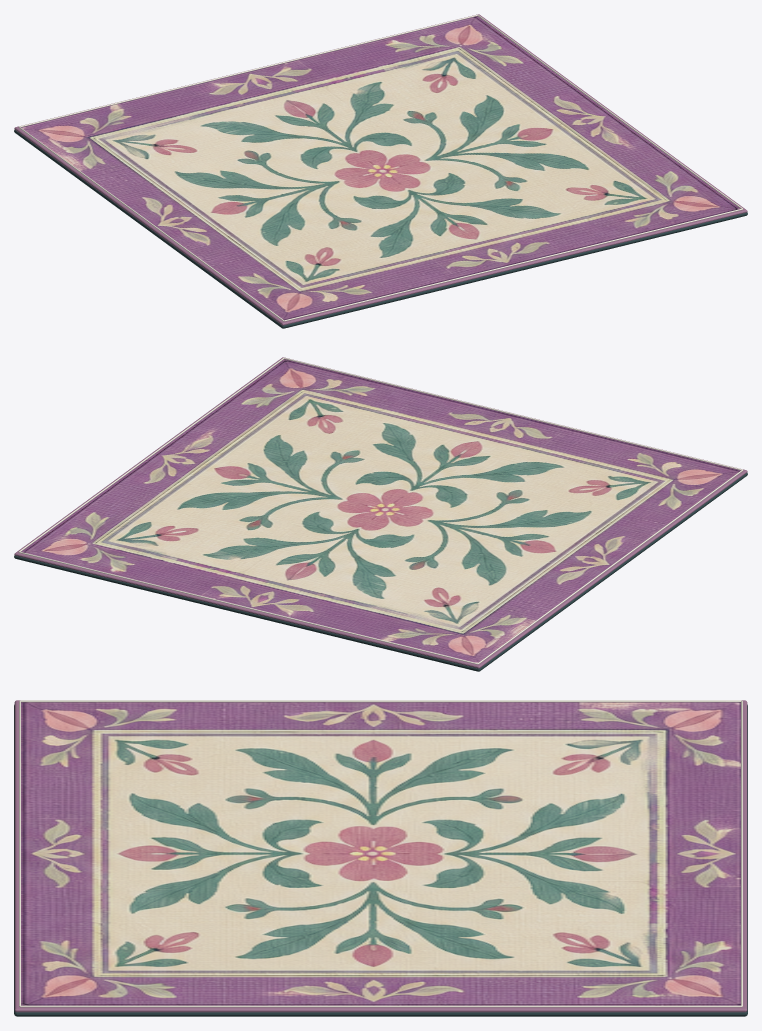
Rendered from hatch_rug_botanical.glb.
3 renders of one model, top to bottom at view 1: azimuth 30°, elevation 25°; view 2: azimuth 150°, elevation 25°; view 3: azimuth 270°, elevation 25°, orthographic. The views are drawn at different scales.
Visible parts, largest first — view 1: Flat_woven_botanical_motif, Bound_woven_body, Anti_slip_rubber, Double_stitched_edge.003, Double_stitched_edge.002, Double_stitched_edge, Double_stitched_edge.001; view 2: Flat_woven_botanical_motif, Bound_woven_body, Anti_slip_rubber, Double_stitched_edge.002, Double_stitched_edge.003, Double_stitched_edge, Double_stitched_edge.001; view 3: Flat_woven_botanical_motif, Bound_woven_body, Anti_slip_rubber, Double_stitched_edge.001, Double_stitched_edge, Double_stitched_edge.002, Double_stitched_edge.003.
Boxes of the visible parts, left/top/right/bottom form: Flat_woven_botanical_motif: left=21, top=16, right=740, bottom=320; Bound_woven_body: left=14, top=14, right=747, bottom=325; Anti_slip_rubber: left=14, top=129, right=747, bottom=328; Double_stitched_edge.003: left=284, top=208, right=742, bottom=321; Double_stitched_edge.002: left=19, top=14, right=477, bottom=127; Double_stitched_edge: left=18, top=126, right=283, bottom=321; Double_stitched_edge.001: left=477, top=15, right=742, bottom=208; Flat_woven_botanical_motif: left=21, top=359, right=740, bottom=663; Bound_woven_body: left=14, top=357, right=747, bottom=668; Anti_slip_rubber: left=14, top=472, right=747, bottom=671; Double_stitched_edge.002: left=19, top=551, right=477, bottom=664; Double_stitched_edge.003: left=284, top=357, right=742, bottom=470; Double_stitched_edge: left=478, top=469, right=743, bottom=664; Double_stitched_edge.001: left=19, top=358, right=284, bottom=551; Flat_woven_botanical_motif: left=21, top=702, right=740, bottom=1005; Bound_woven_body: left=14, top=700, right=747, bottom=1012; Anti_slip_rubber: left=14, top=704, right=747, bottom=1016; Double_stitched_edge.001: left=19, top=1005, right=742, bottom=1007; Double_stitched_edge: left=20, top=700, right=741, bottom=702; Double_stitched_edge.002: left=741, top=701, right=742, bottom=1006; Double_stitched_edge.003: left=19, top=701, right=20, bottom=1006.
Size of the model in its own units: 1.1 by 0.0155 by 1.1.
Materials: 4 (1 with a texture image).
